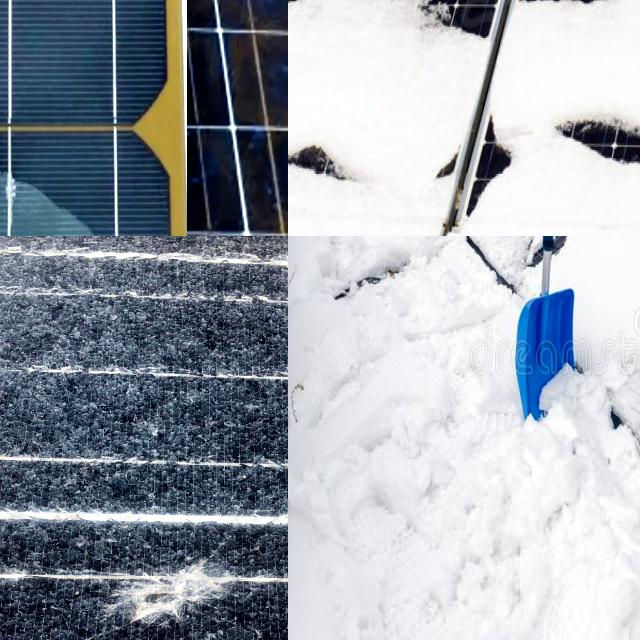hotspot: (98, 543, 288, 640)
panel: (288, 0, 473, 192), (509, 0, 640, 183), (342, 0, 554, 51), (435, 98, 533, 202), (558, 240, 636, 353), (288, 0, 356, 111), (288, 111, 315, 236), (395, 236, 466, 280), (470, 236, 540, 277), (613, 347, 640, 443), (553, 236, 623, 272)
shadow: (0, 124, 122, 236)
